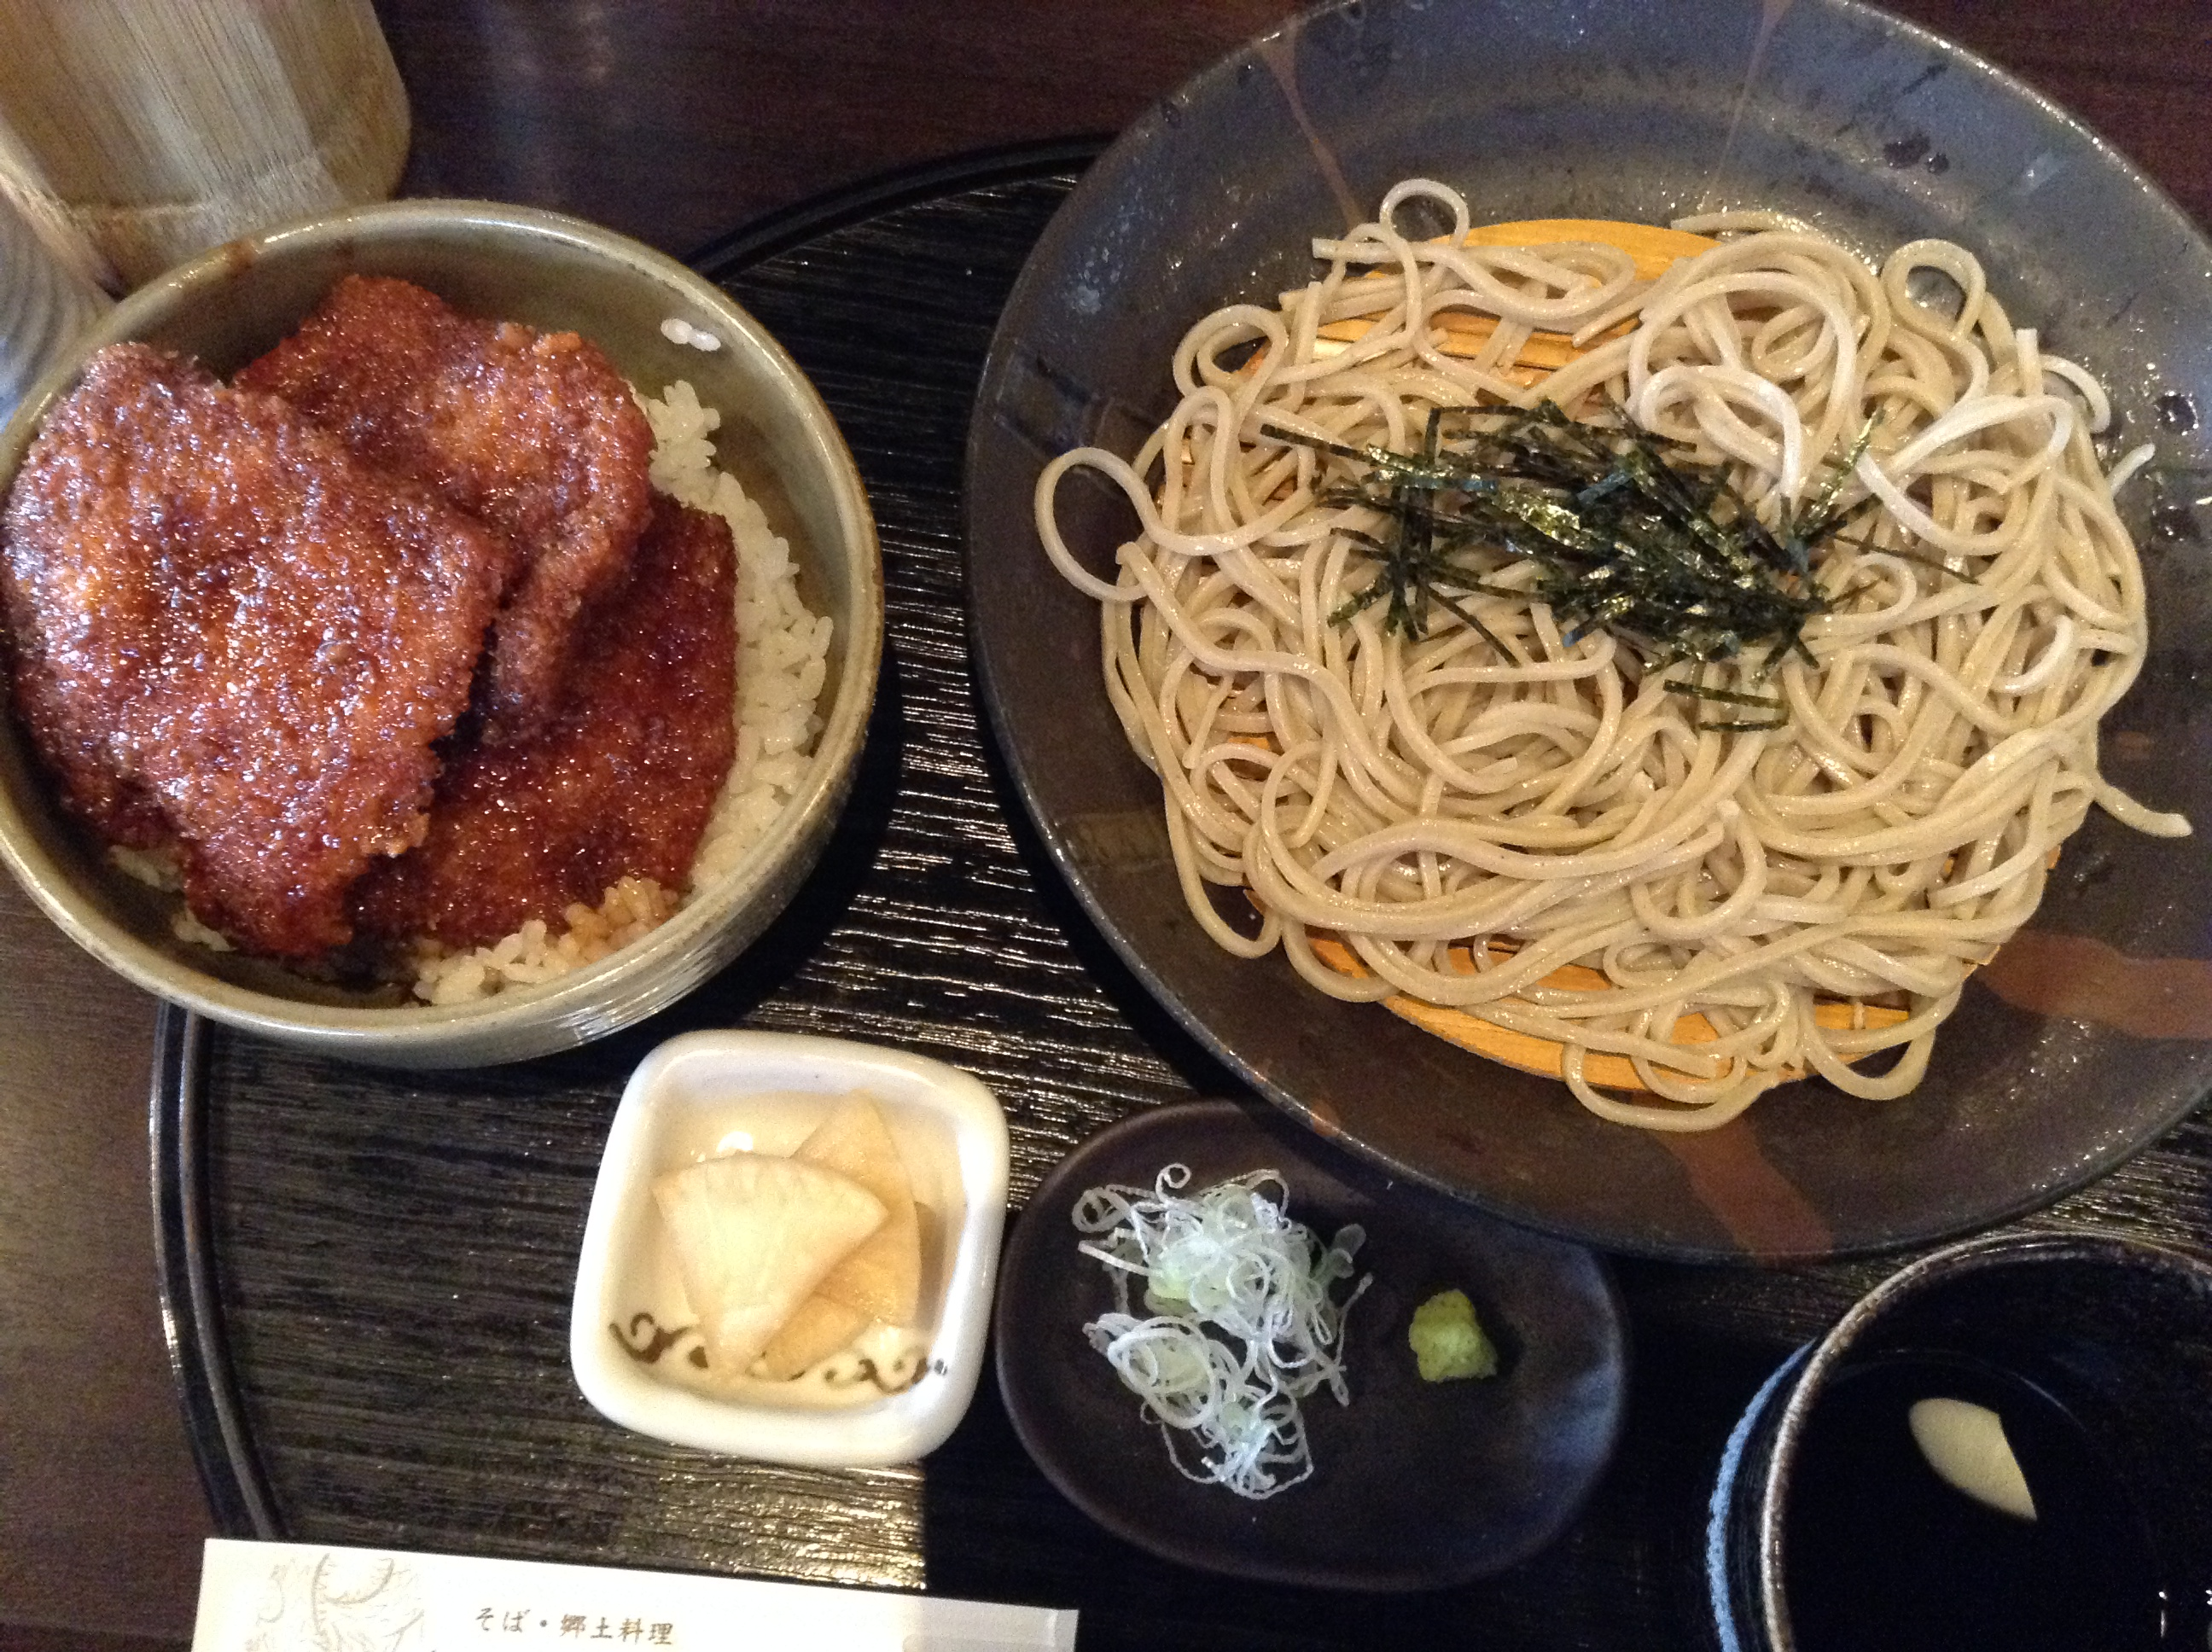Soba: (1074, 167, 2156, 1111)
